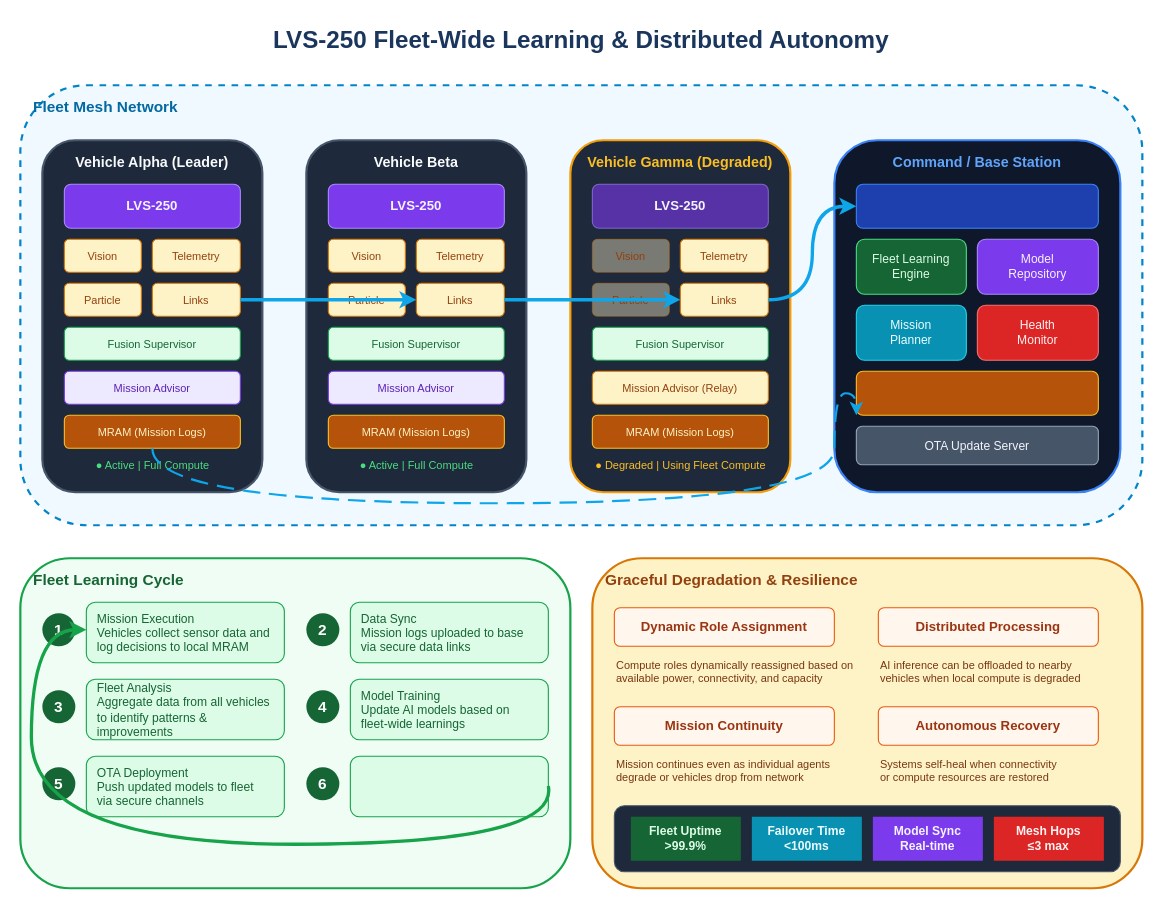
This 1162x908 diagram has some shape labels left out. Each missing label, with the centre of its shape:
Centralized Mission Data & Analytics: the point at 976,392
Fleet Orchestrator: the point at 976,205
Improved Performance Fleet operates with enhanced capabilities - cycle repeats: the point at 448,786
